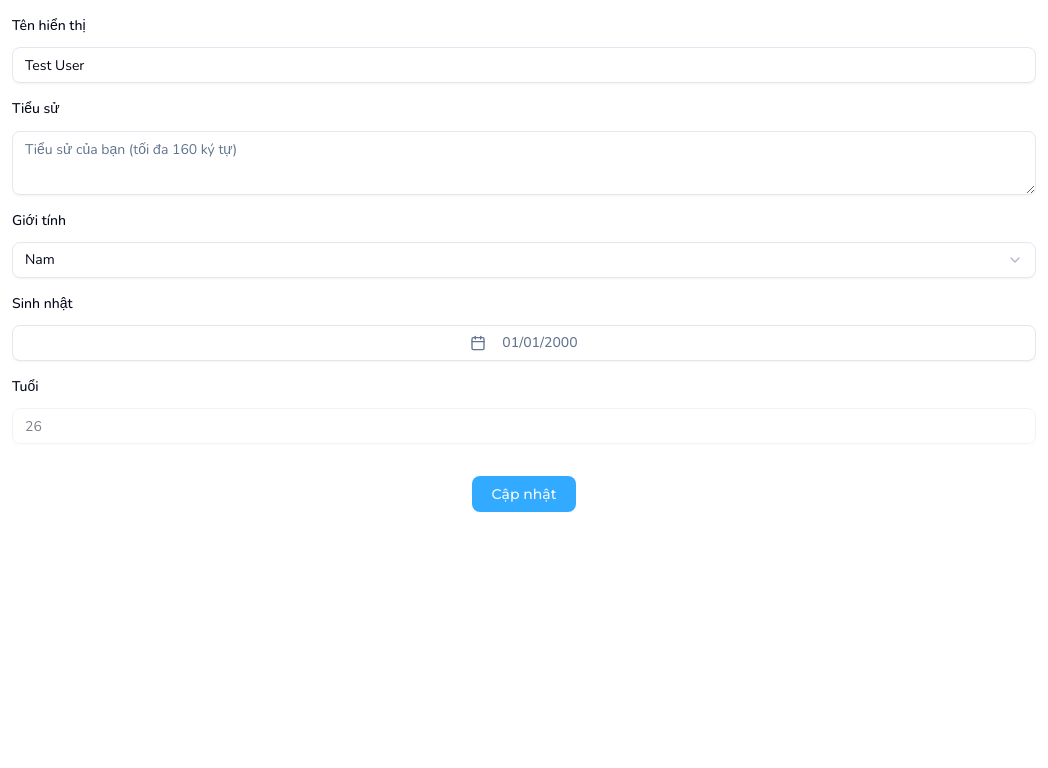
Test: FormUpdateProfile › shows validation error when name is empty
The width and height of the screenshot is (1048, 768).
Clear the field with placeholder "Tên hiển thị của bạn": (524, 65) [12, 47, 1036, 83]
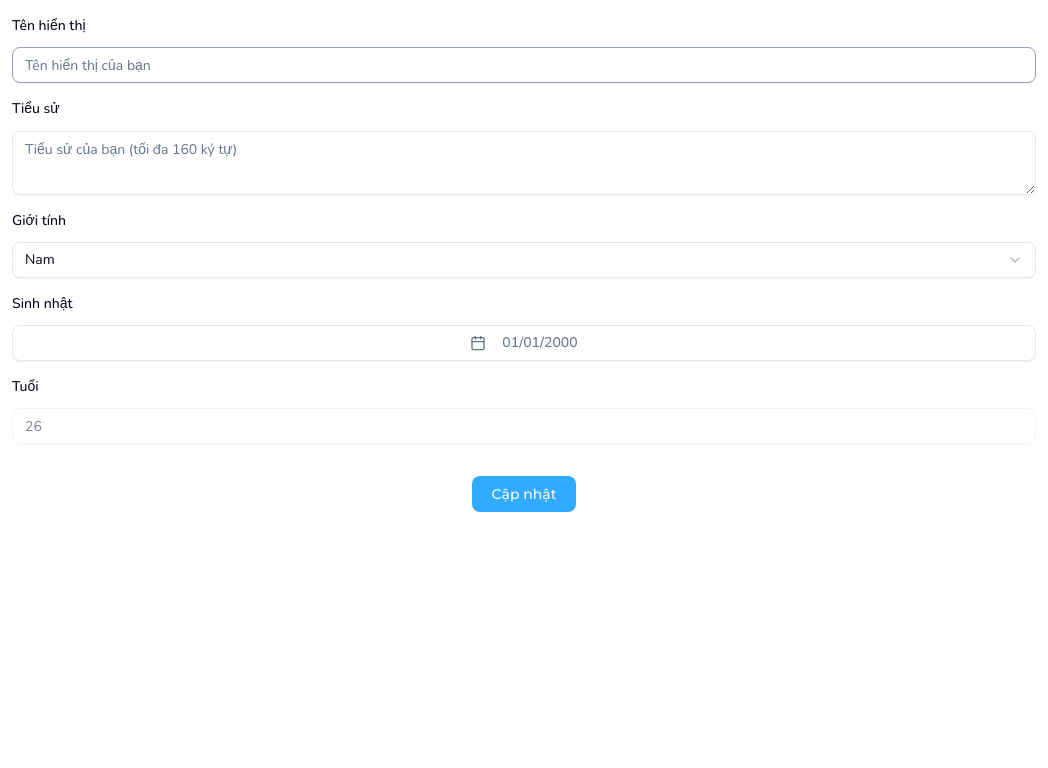
Click the button "Cập nhật": (524, 494) [472, 476, 576, 512]
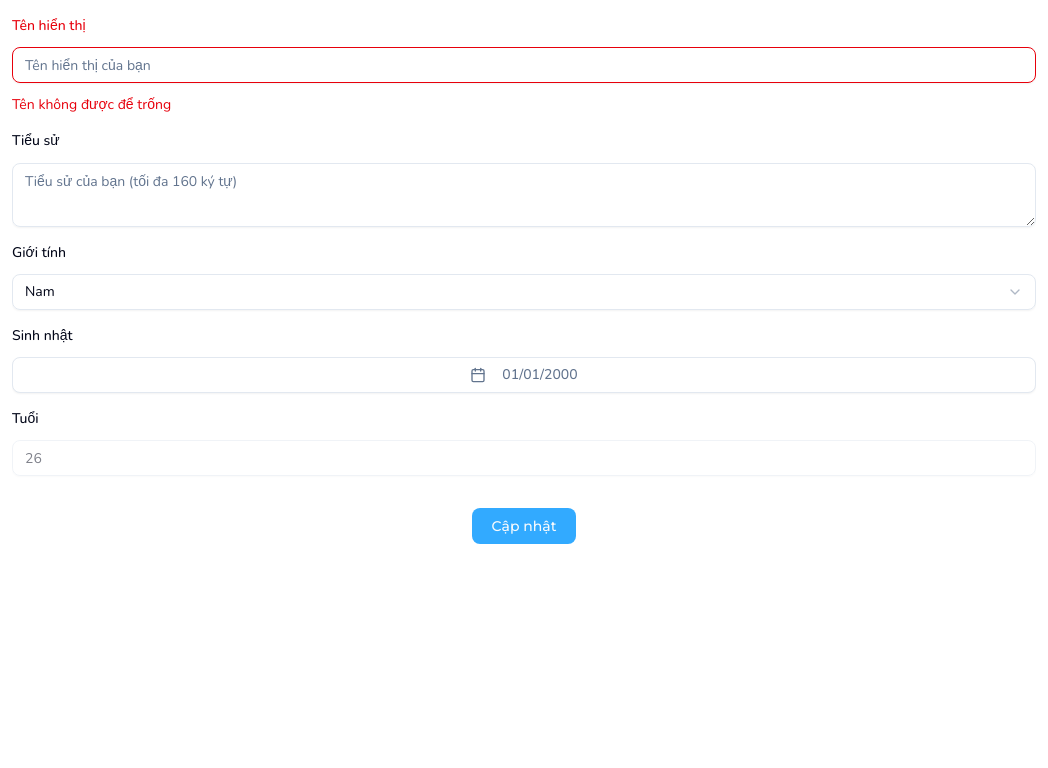
Check: the text "Tên không được để trống" is shown, box [12, 95, 171, 114]
